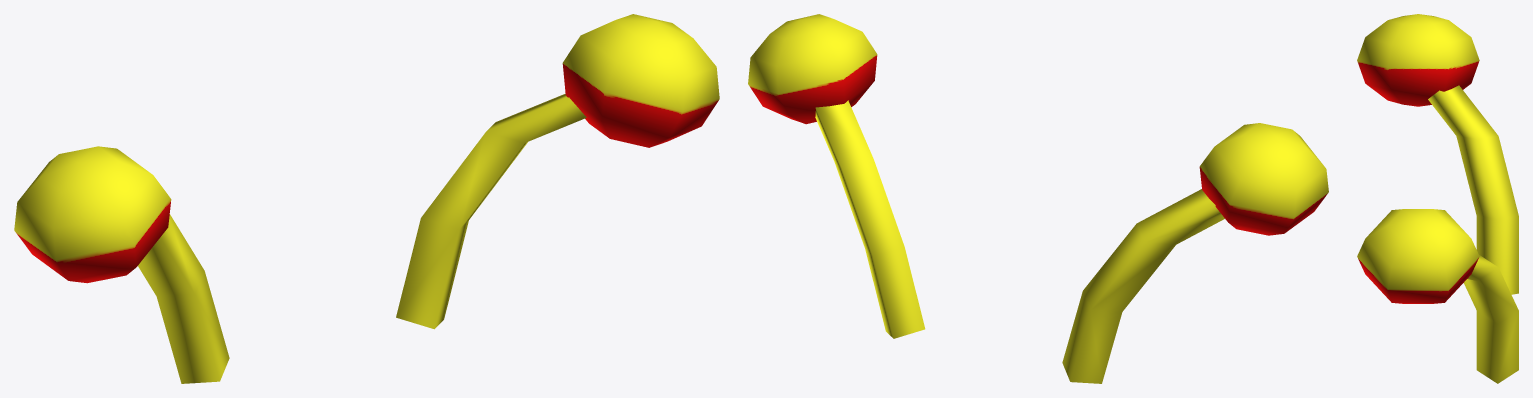
File: Antena.fbx
The picture shows the model from 3 angles, left to right: view 1: azimuth 30°, elevation 25°; view 2: azimuth 150°, elevation 25°; view 3: azimuth 270°, elevation 25°; orthographic projection. The views are drawn at different scales.
Parts seen in each view (by area): view 1: Antena; view 2: Antena; view 3: Antena.
Boxes of the visible parts, x1,y1,x2,y2 form: Antena: (14,14,719,383); Antena: (748,14,1328,383); Antena: (1357,14,1518,383).
Bounding box in the file's own units: 1.24 × 0.5369 × 0.3575.
